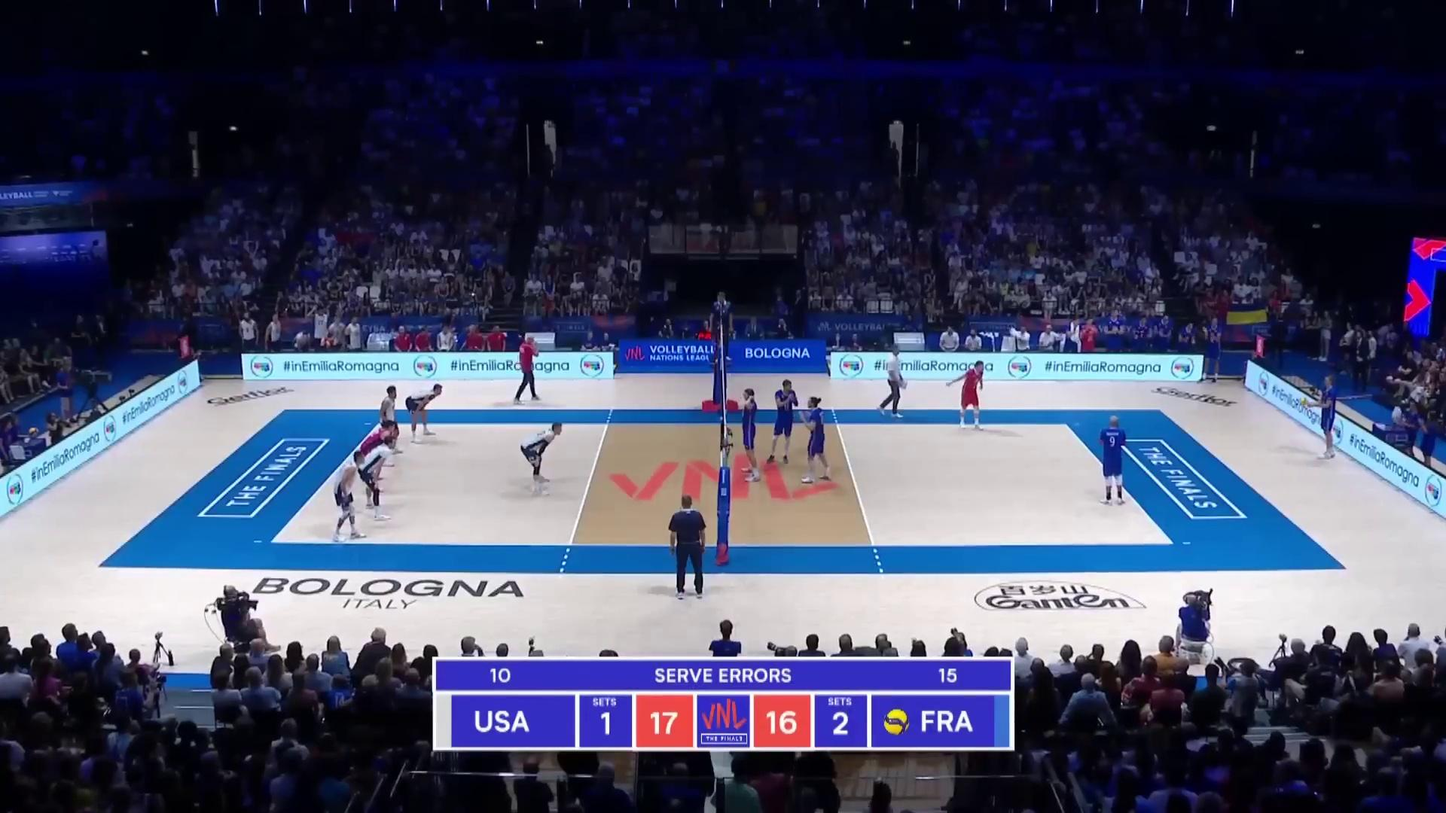player: (330, 450, 366, 541), (359, 438, 397, 523), (801, 397, 834, 484), (522, 424, 563, 494), (358, 420, 396, 494), (1100, 417, 1129, 507), (773, 380, 802, 469), (403, 383, 442, 443), (954, 360, 986, 432), (1309, 378, 1335, 461), (737, 387, 757, 481), (380, 386, 402, 452)
refree: (668, 497, 709, 602), (712, 291, 733, 363)
